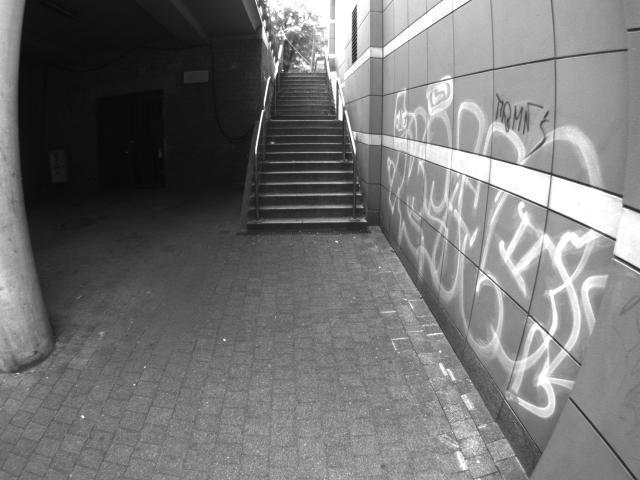Escaleras: (240, 119, 370, 237), (254, 65, 343, 119)
